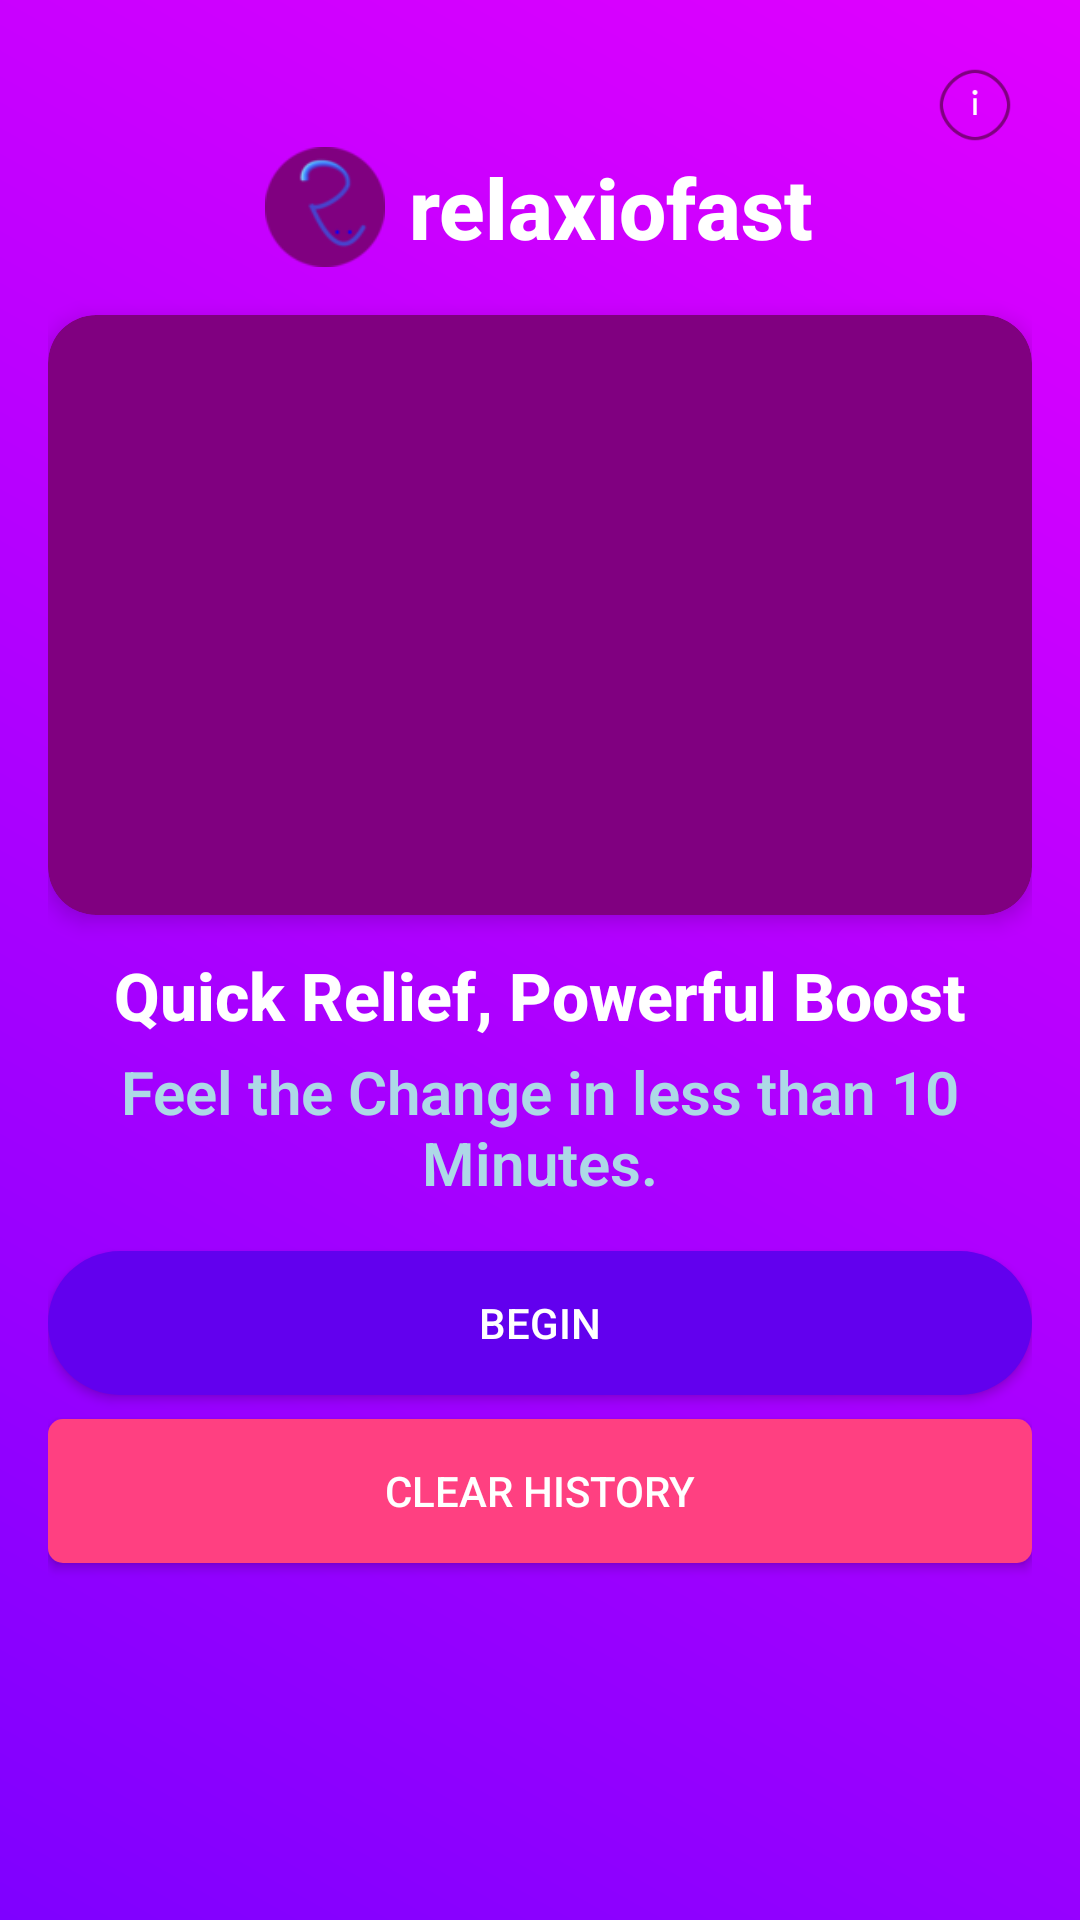

Screen size 1080x1920. Icon name, then its box in pixels as {"x1": x1, "y1": y1, "x2": x2, "y2": y2}:
Disclaimer Icon: {"x1": 939, "y1": 69, "x2": 1011, "y2": 141}
